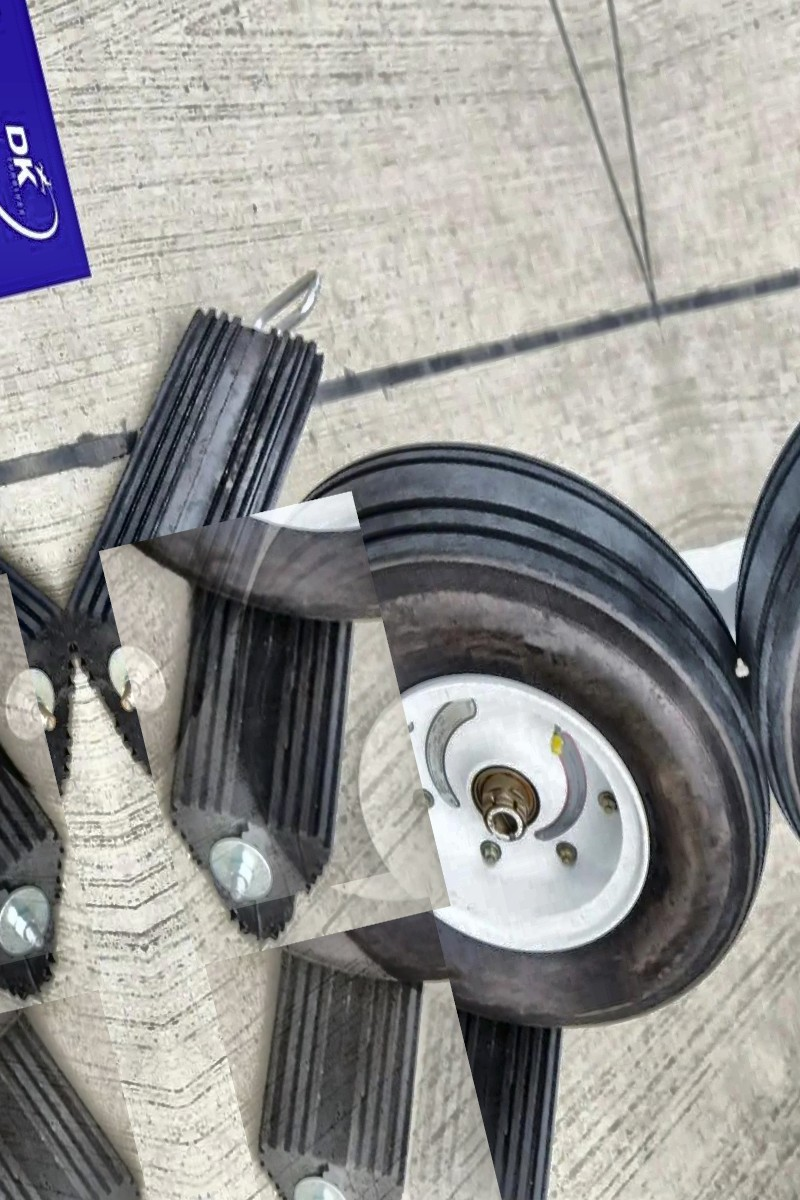chock: (0, 226, 413, 792), (99, 491, 451, 966), (194, 865, 511, 1200), (349, 918, 644, 1200), (0, 944, 176, 1200)
wheel: (189, 389, 800, 1089)
